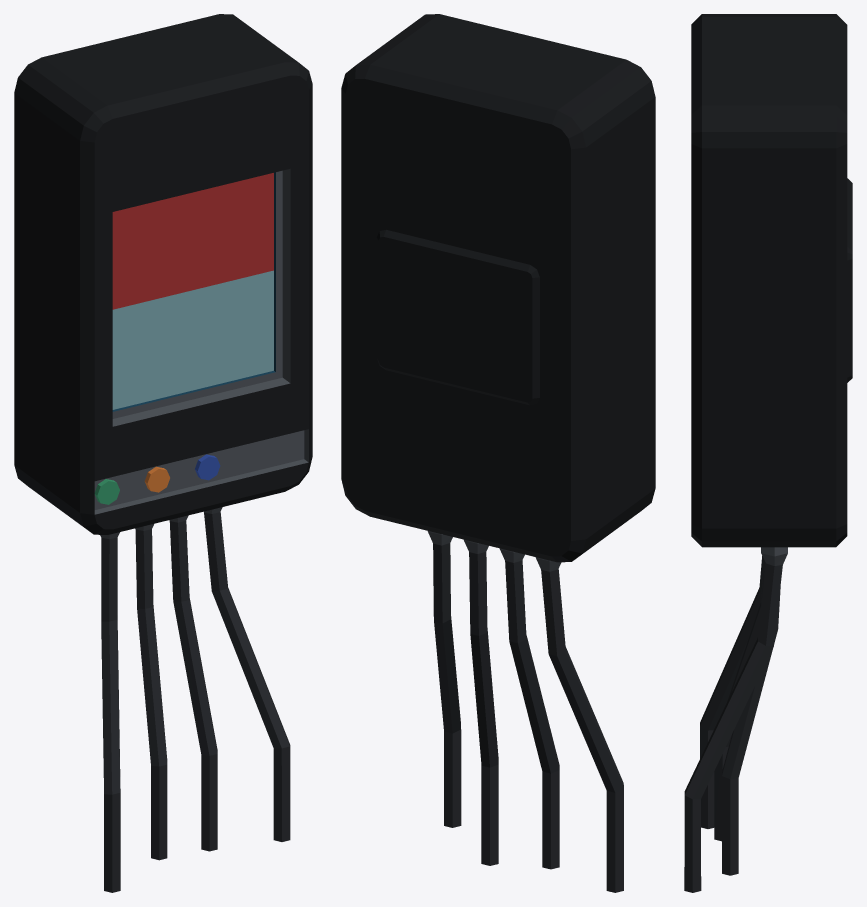
File: reef-controller-unit-b98ce9.glb
The picture shows the model from 3 angles, left to right: view 1: azimuth 30°, elevation 25°; view 2: azimuth 150°, elevation 25°; view 3: azimuth 270°, elevation 25°; orthographic projection. The views are drawn at different scales.
Parts seen in each view (by area): view 1: controller; view 2: controller; view 3: controller.
Part boxes in pixels (box(x1,y1,x2,y2)): controller: box(14, 14, 312, 892); controller: box(341, 14, 655, 892); controller: box(684, 14, 852, 892).
Size of the model in its own units: 0.102 by 0.33 by 0.0625.
